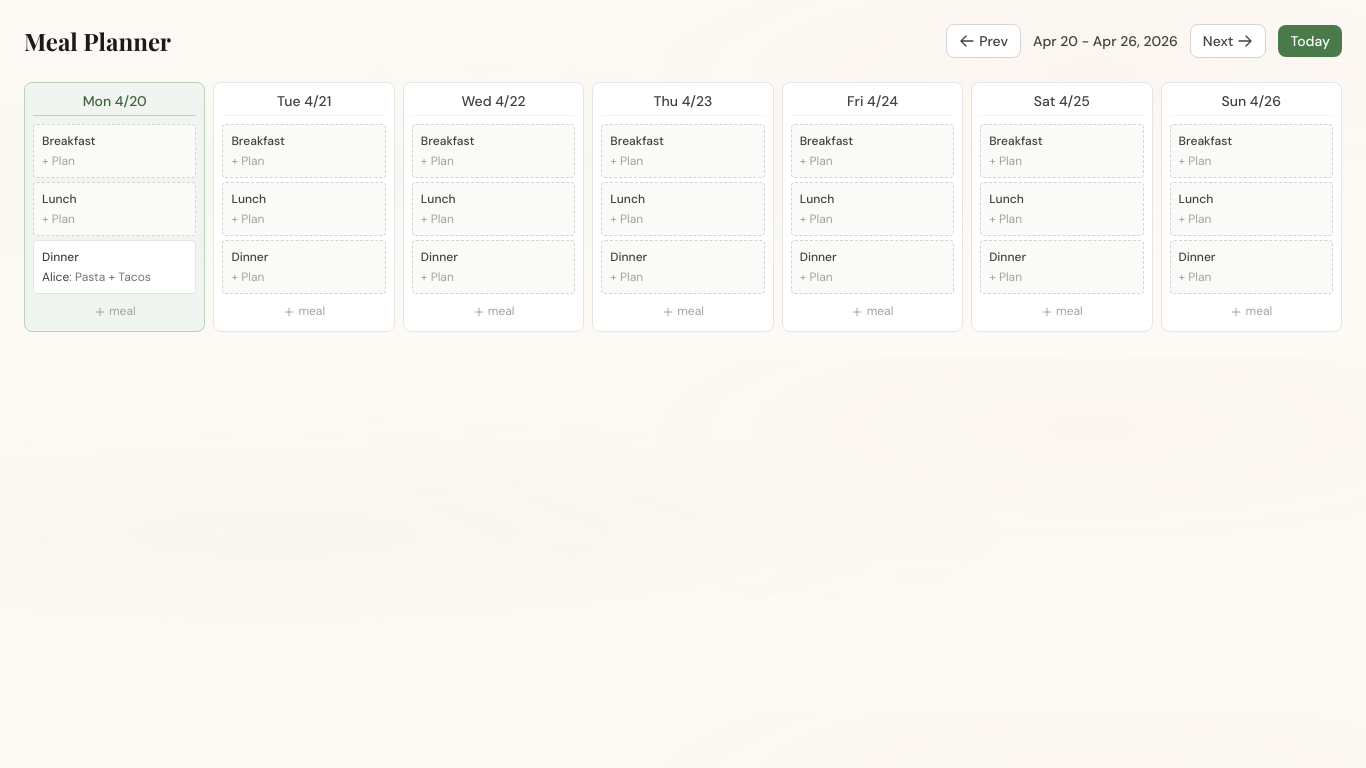
Scenario: MealPlanner — default recipe for a new serving › defaults to the most-recently-added recipe when the slot has several
Check: the text "Alice: Pasta + Tacos" is shown, box [42,269,151,285]
Click the button "Dinner Alice: Pasta + Tacos" at (115, 267), box [33,240,196,294]
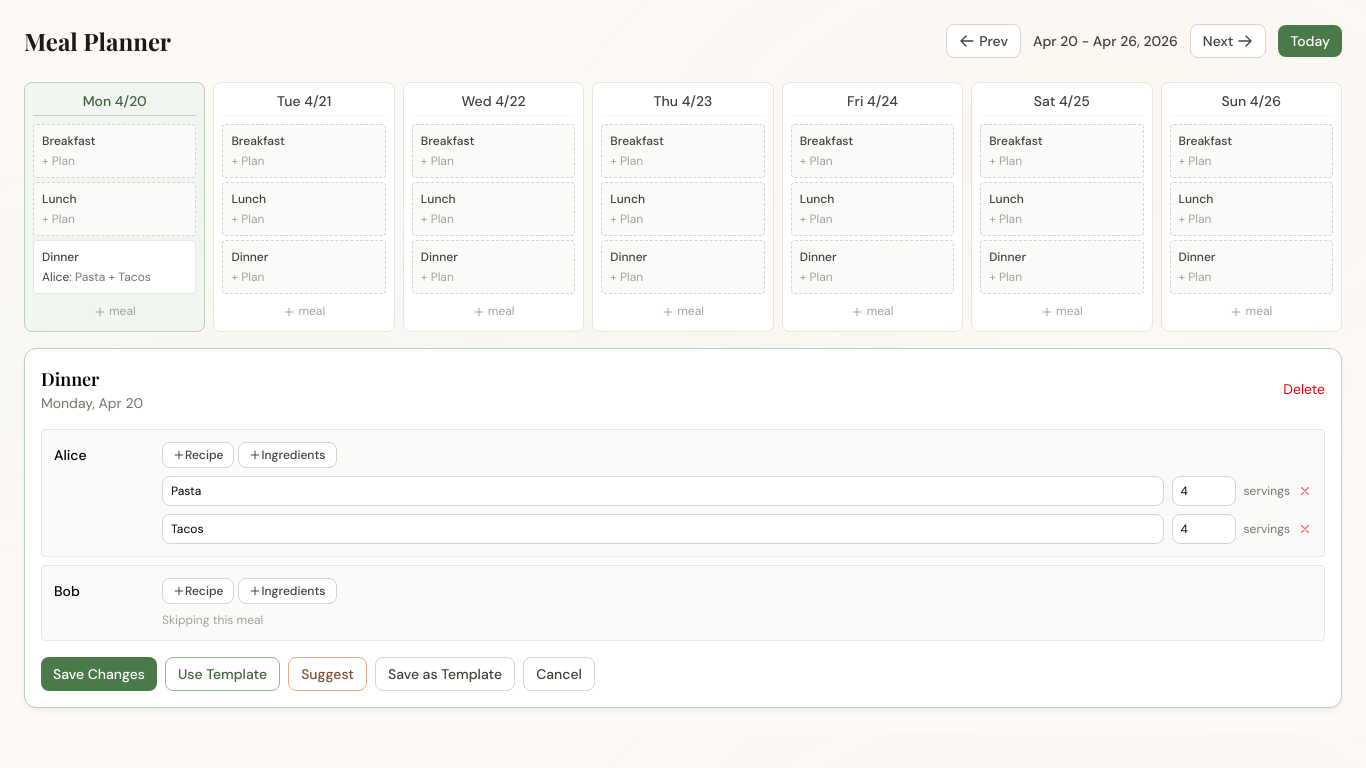
Check: the button "Save Changes" is shown, box [41,657,157,691]
Click the button "Recipe" next to "Bob" at (198, 591), box [162,578,234,604]
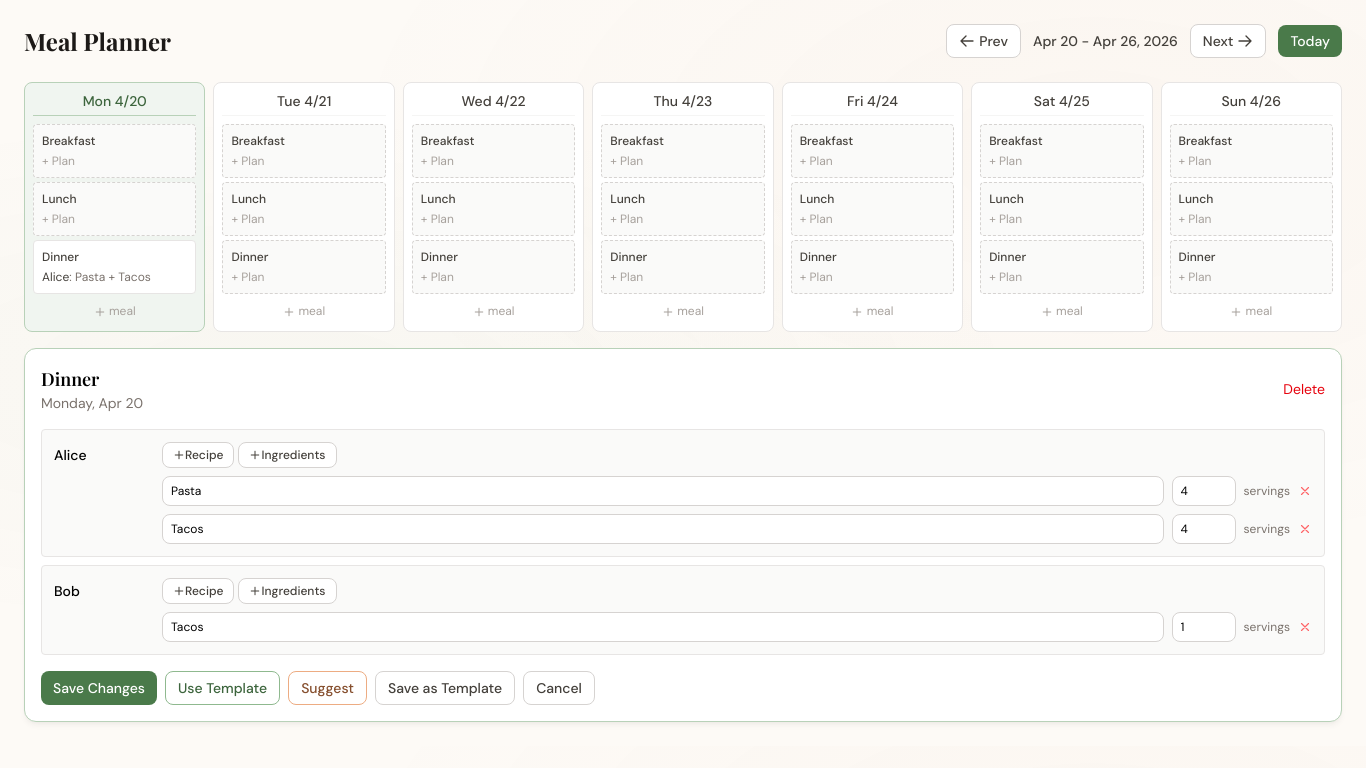
Check: the number of dropdowns is 3, box [162,476,1164,506]; [162,514,1164,544]; [162,612,1164,642]
Check: the dropdown named "Recipe" below "Bob" holds "Tacos", box [162,612,1164,642]
